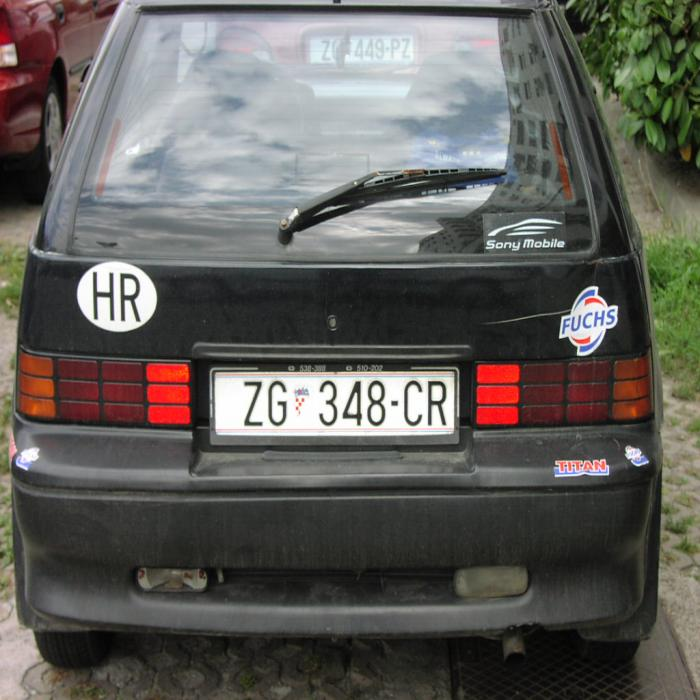number_plate: (214, 372, 454, 433)
